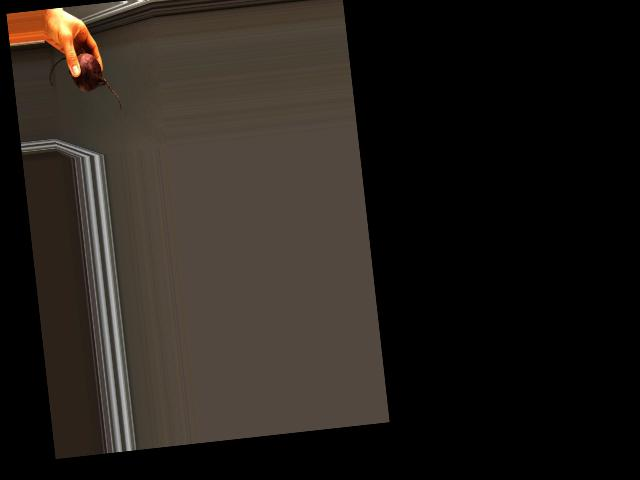beet: (46, 50, 121, 119)
